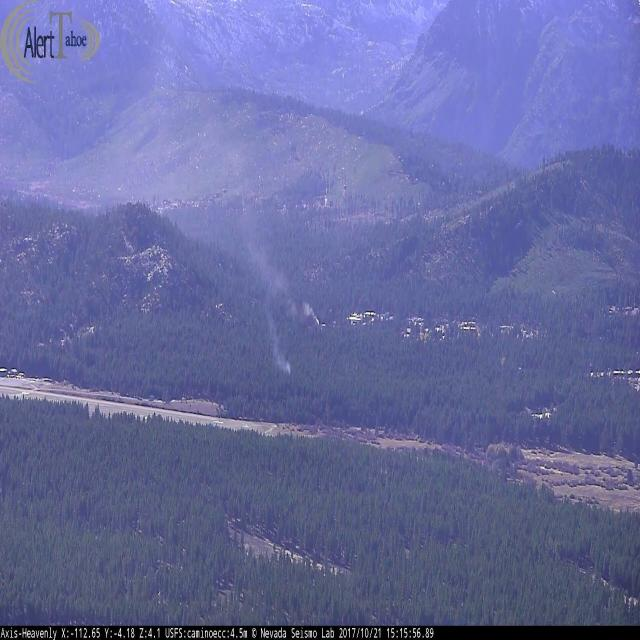smoke: (156, 92, 332, 370)
